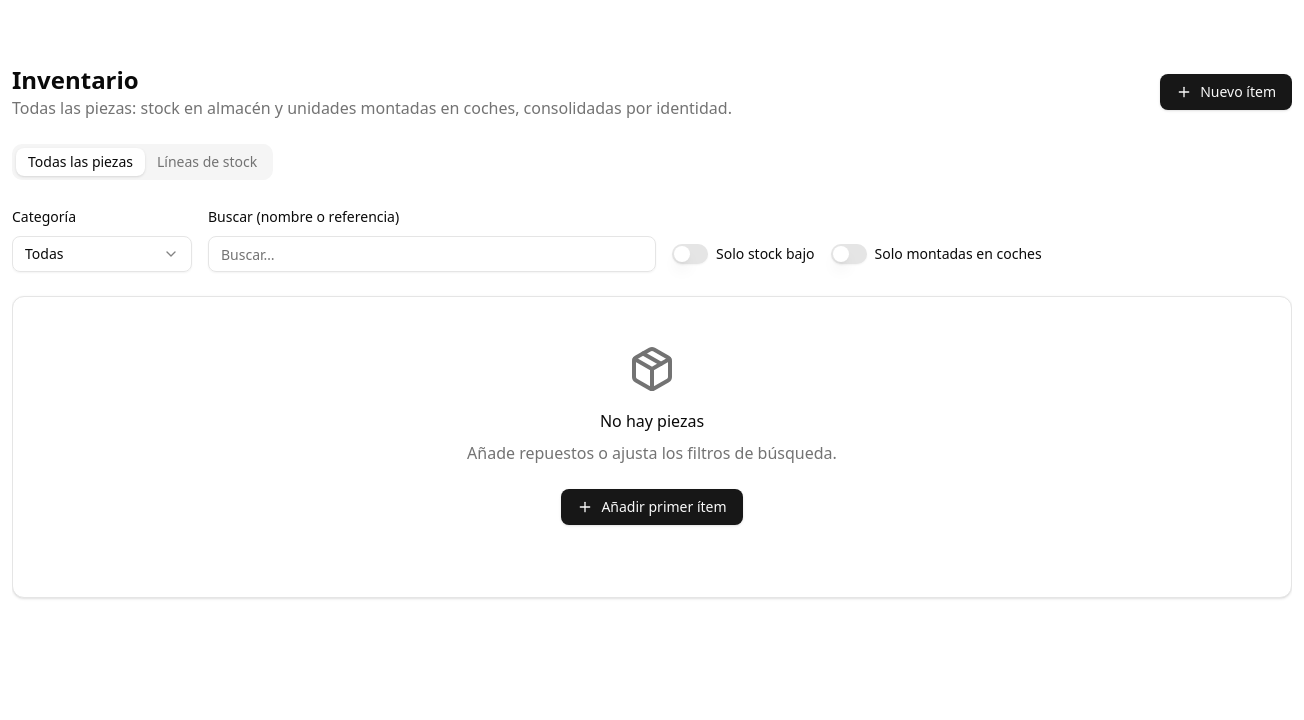
Scenario: Inventory — filtros en query y paginación de servidor › al cambiar a líneas de stock pide GET /inventory con page y limit de página
Click the tab "Líneas de stock": (207, 162) [145,148,269,176]
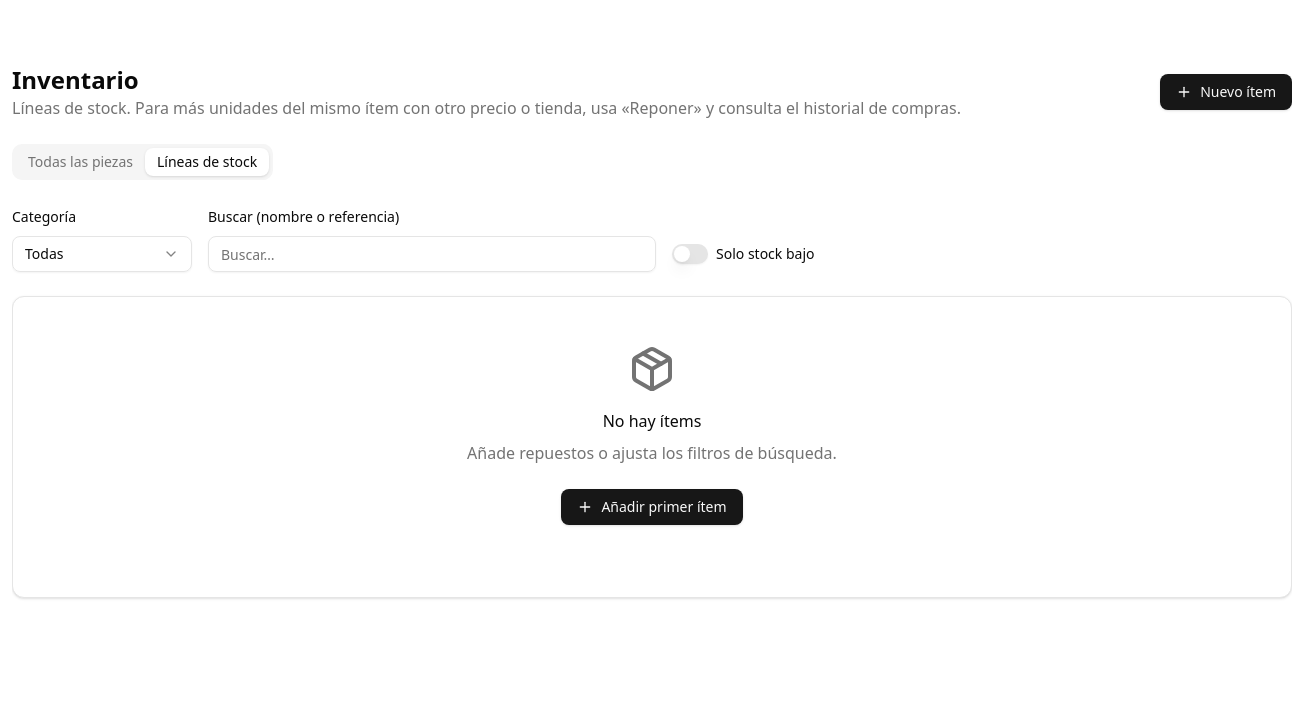
Now the heading "No hay ítems" is shown, box [603,410,701,432]
